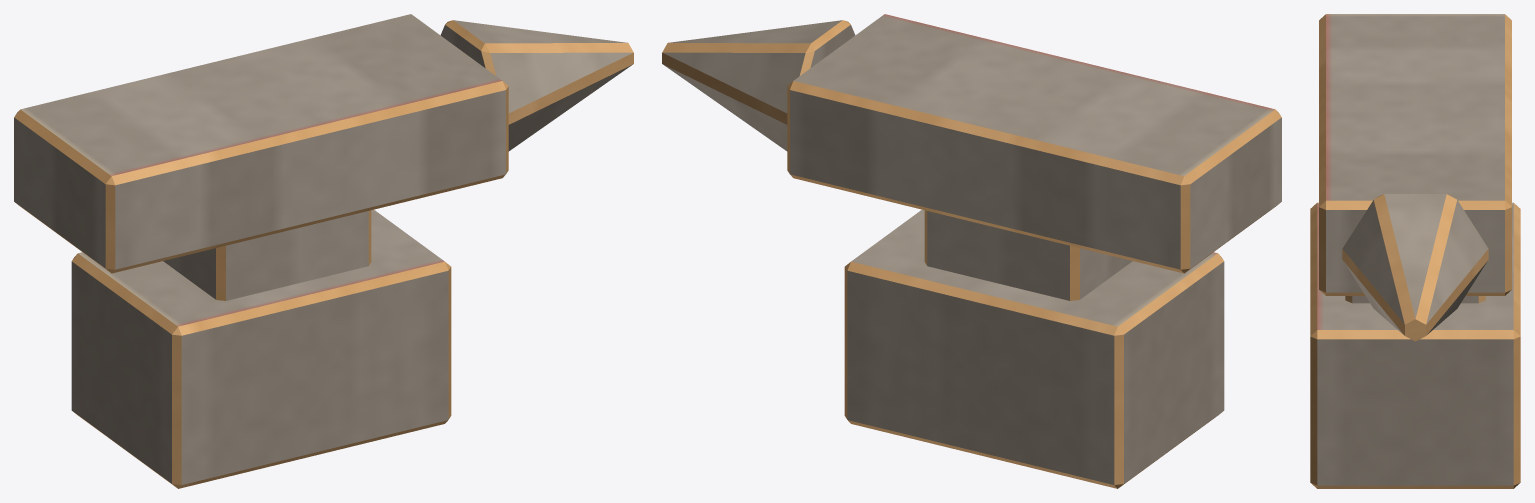
Rendered from sm_prop_anvil.glb.
3 views of the same model, side by side, from view 1: azimuth 30°, elevation 25°; view 2: azimuth 150°, elevation 25°; view 3: azimuth 270°, elevation 25° (orthographic). The views are drawn at different scales.
Parts seen in each view (by area): view 1: sm_prop_anvil; view 2: sm_prop_anvil; view 3: sm_prop_anvil.
Part boxes in pixels (left/top/right/bottom): sm_prop_anvil: left=14, top=14, right=633, bottom=488; sm_prop_anvil: left=662, top=14, right=1281, bottom=488; sm_prop_anvil: left=1310, top=14, right=1520, bottom=488.
Size of the model in its own units: 0.3666 by 0.2078 by 0.12.
1 material, 1 textured.
